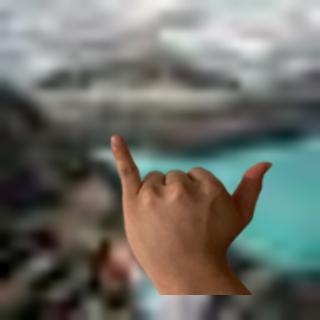HAVE: (101, 129, 280, 286)
